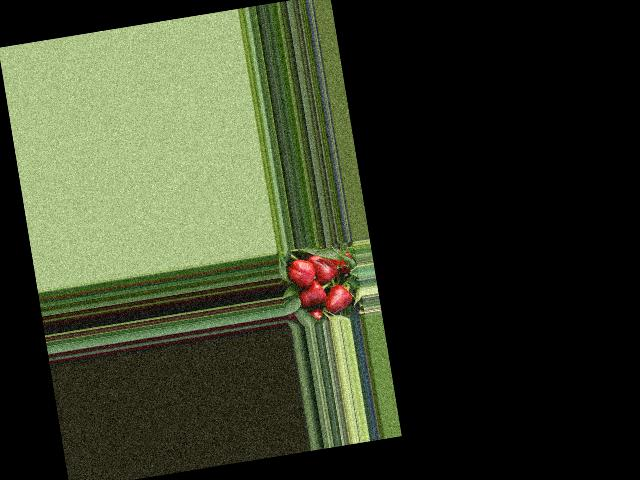bell_pepper: (286, 254, 318, 295)
